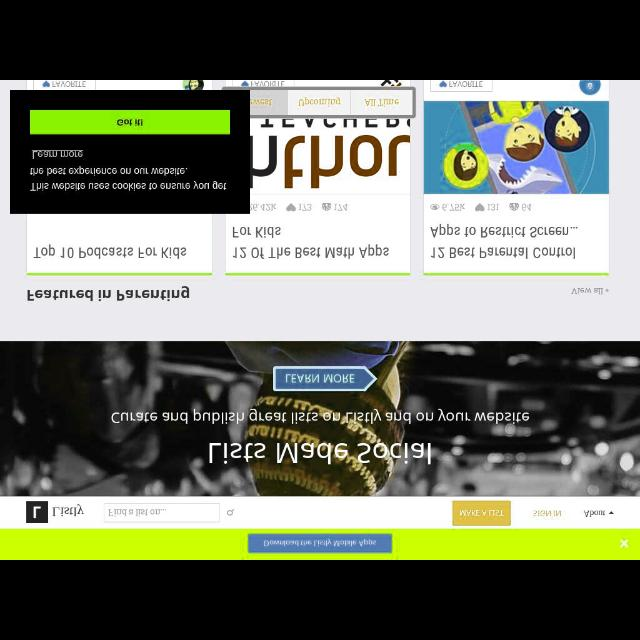icon: (619, 536, 629, 550), (474, 204, 484, 212), (286, 204, 296, 212), (508, 203, 518, 210), (321, 203, 331, 210), (226, 508, 234, 516), (429, 204, 439, 210), (439, 82, 446, 86), (608, 511, 614, 515)
iframe: (1, 529, 639, 559)
image: (1, 342, 639, 496), (424, 100, 608, 194), (250, 116, 408, 194), (26, 502, 48, 524), (580, 81, 600, 95)
input: (104, 503, 220, 521)
multitab: (223, 88, 415, 118)
panel: (11, 90, 250, 212)
spinner: (582, 506, 620, 522)
text: (30, 164, 228, 193), (431, 224, 579, 260), (232, 226, 392, 258), (27, 286, 190, 300), (34, 247, 186, 260), (108, 506, 166, 516), (32, 150, 84, 160), (299, 96, 341, 108), (52, 504, 84, 518), (365, 96, 399, 108), (460, 508, 504, 516), (570, 286, 604, 296), (248, 201, 276, 211), (450, 81, 484, 89), (532, 509, 562, 517), (116, 118, 144, 126), (247, 98, 273, 105), (584, 509, 604, 517), (442, 203, 463, 210), (334, 203, 348, 211), (298, 203, 312, 210), (520, 203, 534, 210), (488, 203, 500, 210)
textbutton: (30, 110, 228, 136), (452, 500, 512, 526), (430, 81, 490, 91)
toolbar: (1, 497, 639, 528)
